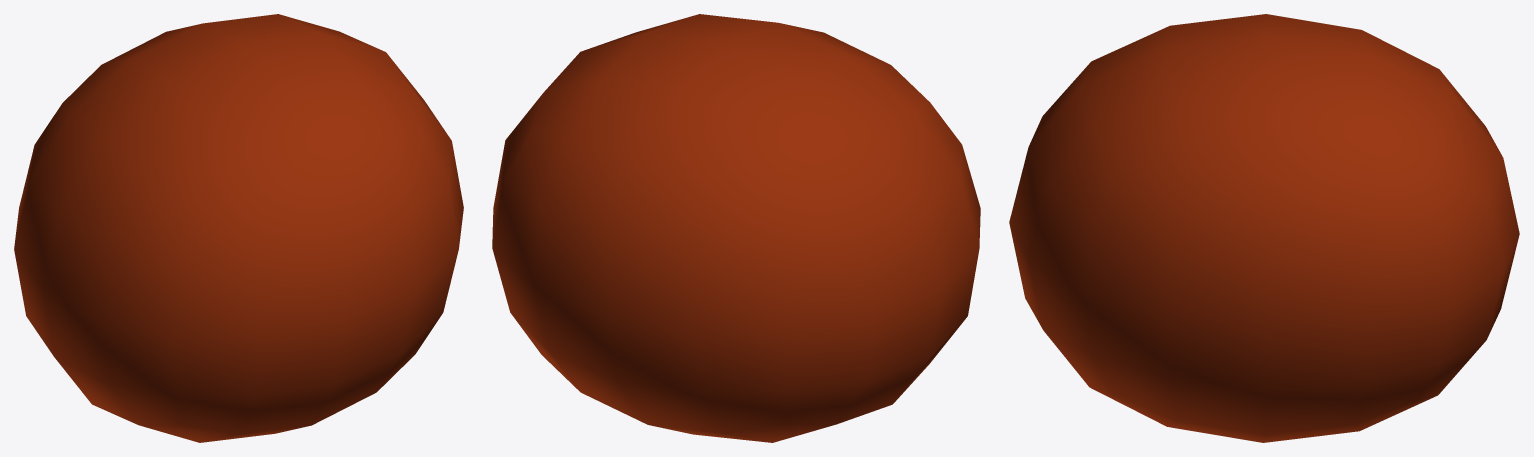
Rendered from rock_6.fbx.
3 renders of one model, left to right at view 1: azimuth 30°, elevation 25°; view 2: azimuth 150°, elevation 25°; view 3: azimuth 270°, elevation 25°, orthographic. The views are drawn at different scales.
Parts seen in each view (by area): view 1: rock_6; view 2: rock_6; view 3: rock_6.
Part boxes in pixels (<box>): rock_6: <box>14,14,463,442</box>; rock_6: <box>492,14,980,442</box>; rock_6: <box>1009,14,1519,442</box>.
Size of the model in its own units: 10.36 by 8.96 by 10.65.
